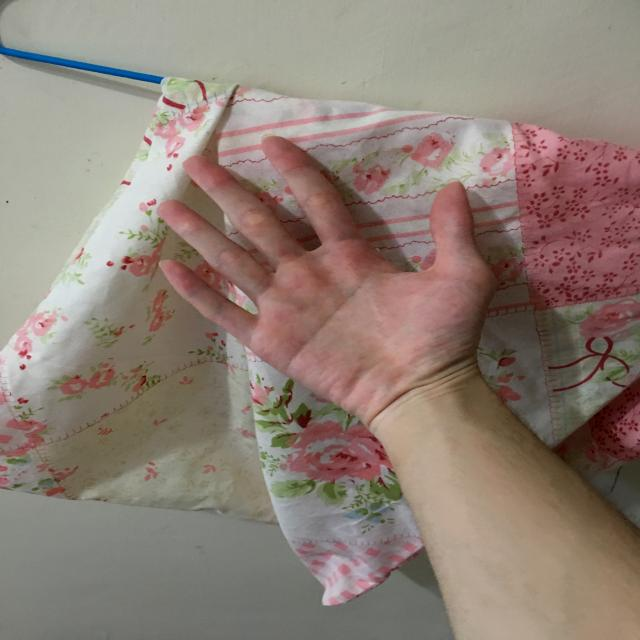no_glove: (130, 123, 499, 421)
